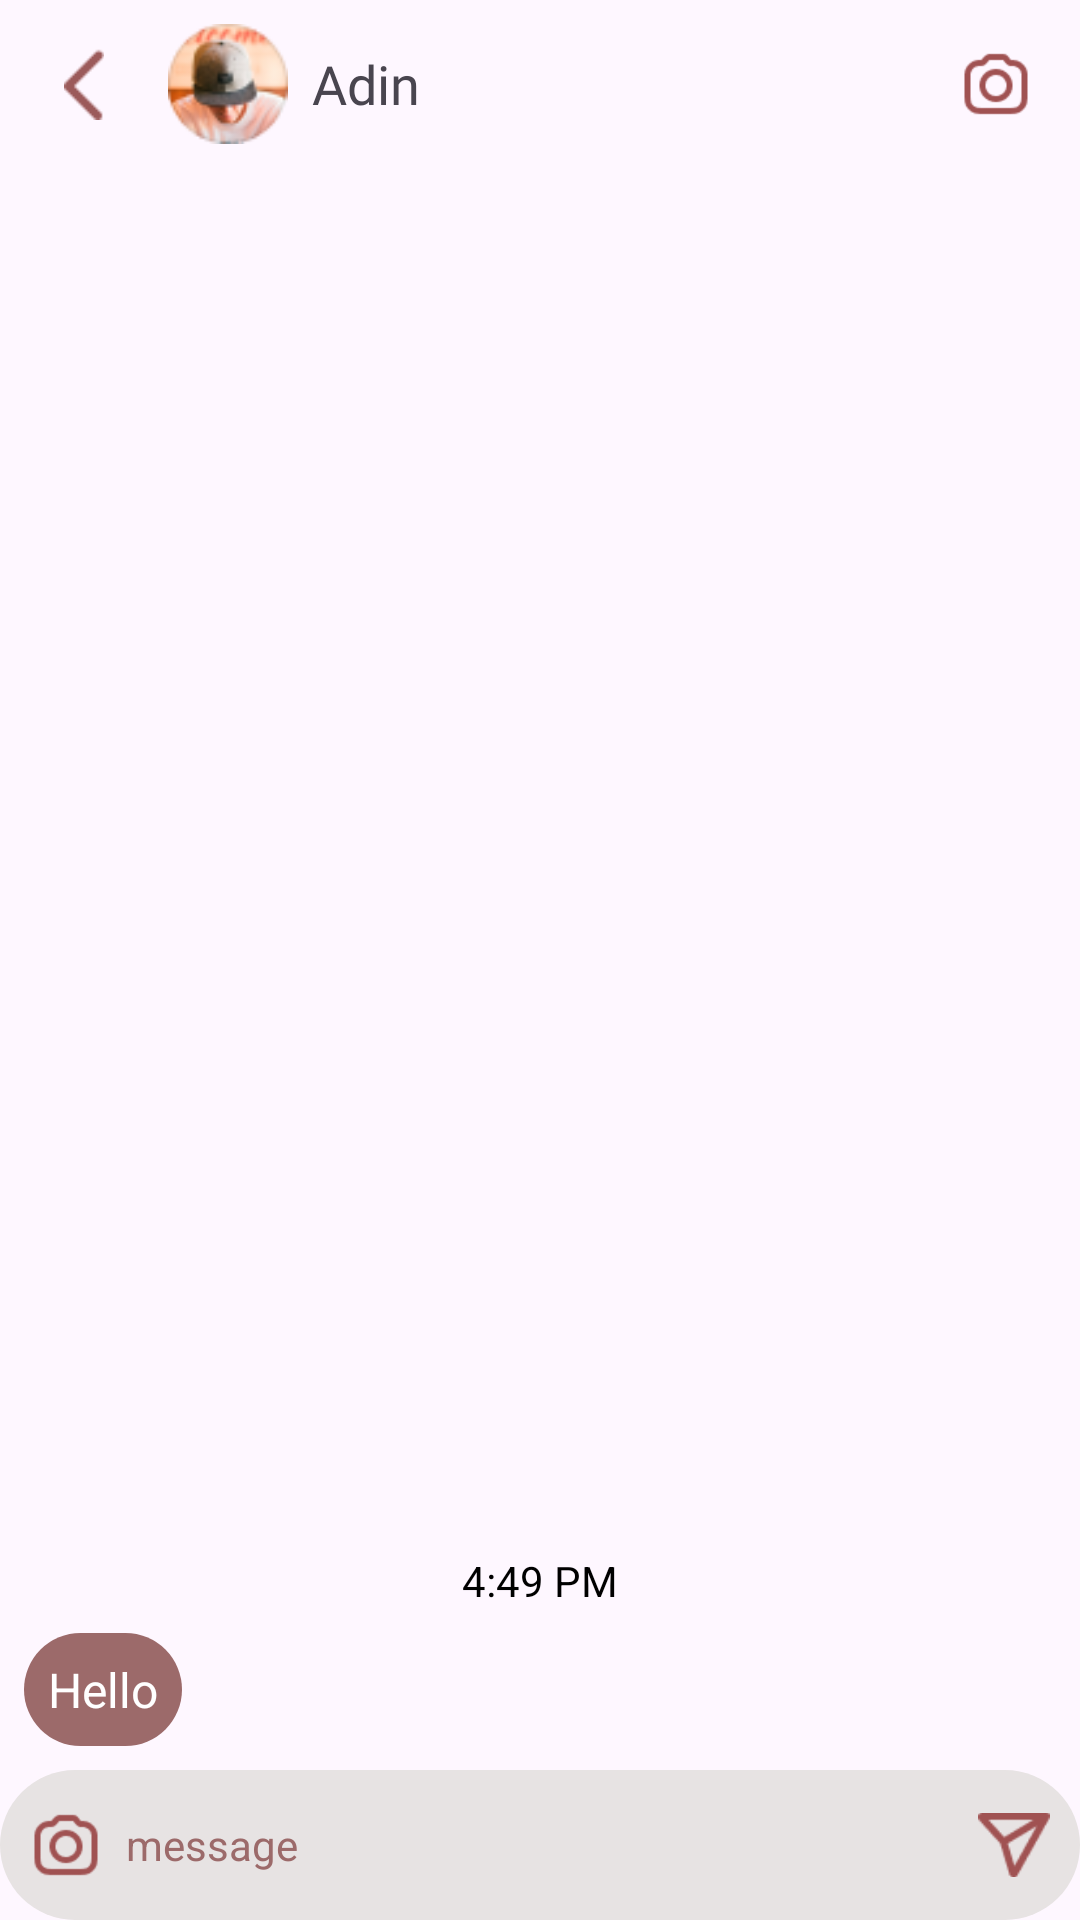

Icon bounding boxes for this 1080px x 1920px phone screenshot, format (x1, y1, x2, y2):
Back: (64, 50, 104, 120)
Profile: (168, 24, 288, 144)
Send: (978, 1813, 1050, 1877)
